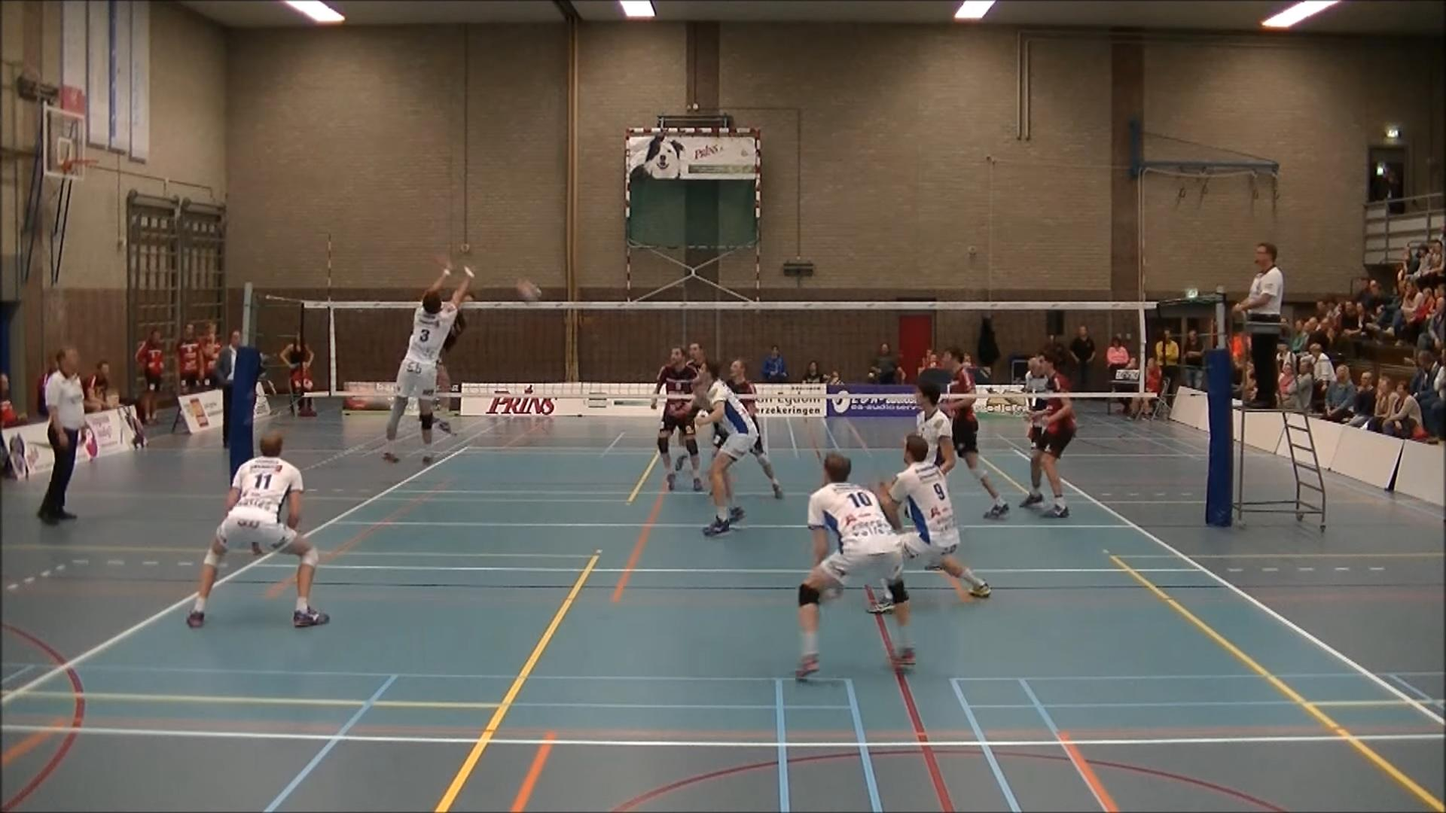Attack: (432, 298, 493, 436)
Block: (382, 261, 478, 463)
Player: (187, 431, 328, 627), (796, 452, 914, 679), (877, 434, 990, 597), (940, 346, 1008, 519), (694, 361, 758, 536), (1021, 355, 1076, 518), (727, 359, 783, 498), (651, 347, 702, 491), (673, 449, 700, 489), (688, 342, 707, 369)
ball: (512, 274, 546, 310)
